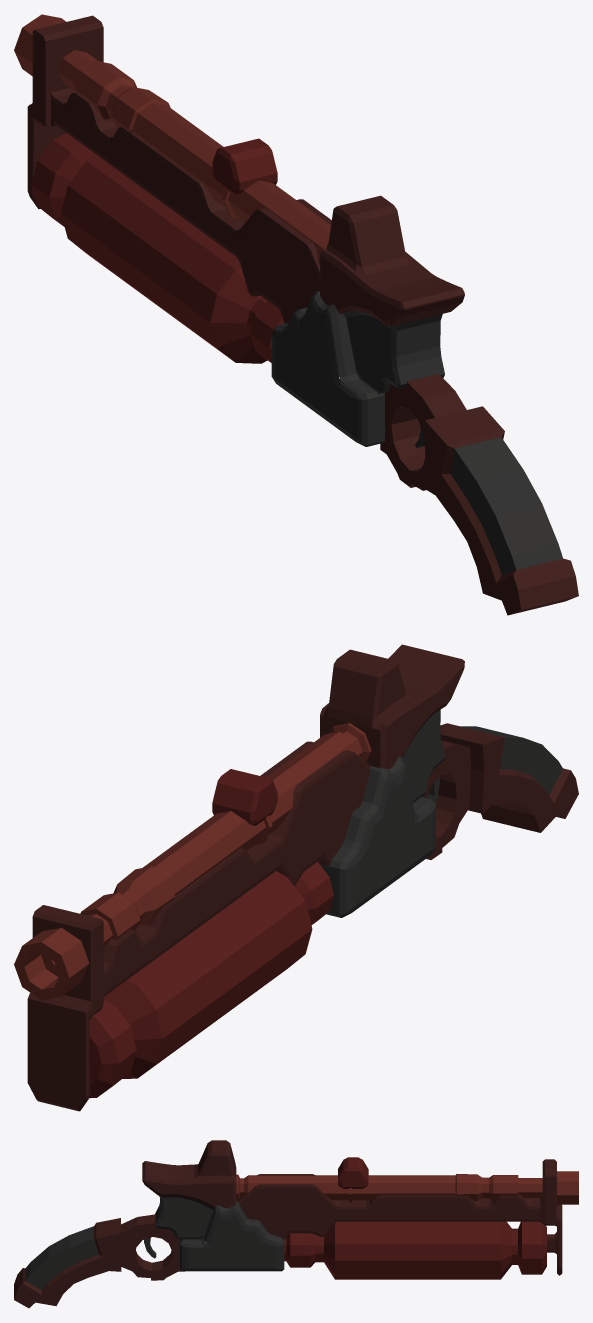
Rendered from long-pistol.glb.
3 renders of one model, top to bottom at view 1: azimuth 30°, elevation 25°; view 2: azimuth 150°, elevation 25°; view 3: azimuth 270°, elevation 25°, orthographic. The views are drawn at different scales.
Visible parts, largest first — view 1: LongPistol; view 2: LongPistol; view 3: LongPistol.
Part boxes in pixels (left/top/right/bottom): LongPistol: left=14, top=14, right=578, bottom=615; LongPistol: left=14, top=644, right=578, bottom=1111; LongPistol: left=14, top=1140, right=578, bottom=1308.
Bounding box in the file's own units: 0.6385 × 1.66 × 5.5.
